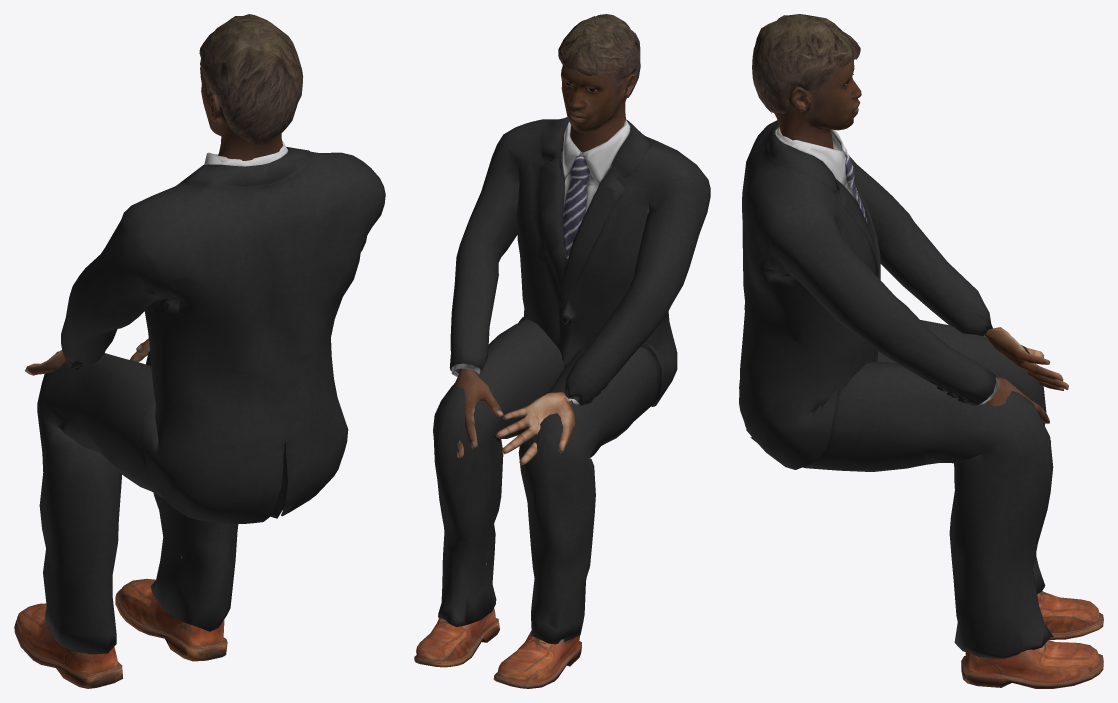
The model's file is sitting_5.gltf.
The picture shows the model from 3 angles, left to right: view 1: azimuth 30°, elevation 25°; view 2: azimuth 150°, elevation 25°; view 3: azimuth 270°, elevation 25°; orthographic projection. The views are drawn at different scales.
Parts seen in each view (by area): view 1: sitting; view 2: sitting; view 3: sitting.
Boxes of the visible parts, x1=… form: sitting: x1=14, y1=14, x2=385, y2=688; sitting: x1=414, y1=14, x2=710, y2=688; sitting: x1=739, y1=14, x2=1103, y2=688.
Bounding box in the file's own units: 0.5662 × 1.45 × 0.7528.
Materials: 6 (6 with a texture image).
